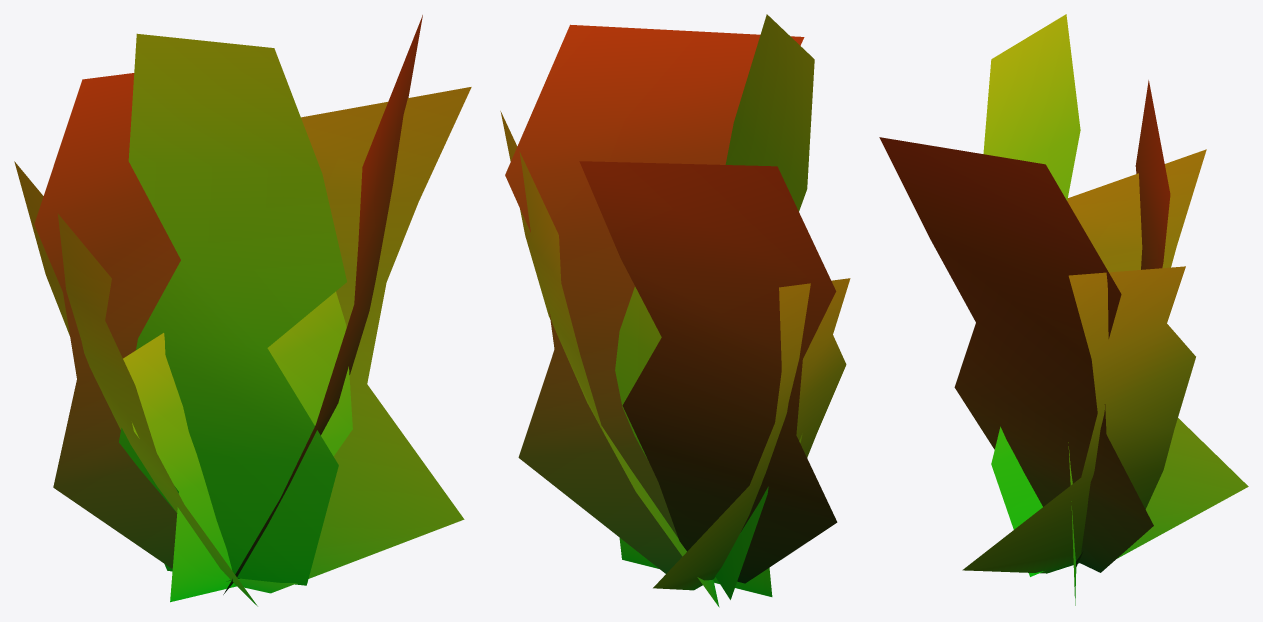
The model's file is Var8Hi34.fbx.
The picture shows the model from 3 angles, left to right: view 1: azimuth 30°, elevation 25°; view 2: azimuth 150°, elevation 25°; view 3: azimuth 270°, elevation 25°; orthographic projection. The views are drawn at different scales.
Parts seen in each view (by area): view 1: bend1; view 2: bend1; view 3: bend1.
Boxes of the visible parts, x1=… form: bend1: x1=14, y1=15, x2=471, y2=606; bend1: x1=500, y1=14, x2=850, y2=607; bend1: x1=879, y1=14, x2=1248, y2=605.
Size of the model in its own units: 1.27 by 1.77 by 1.17.
